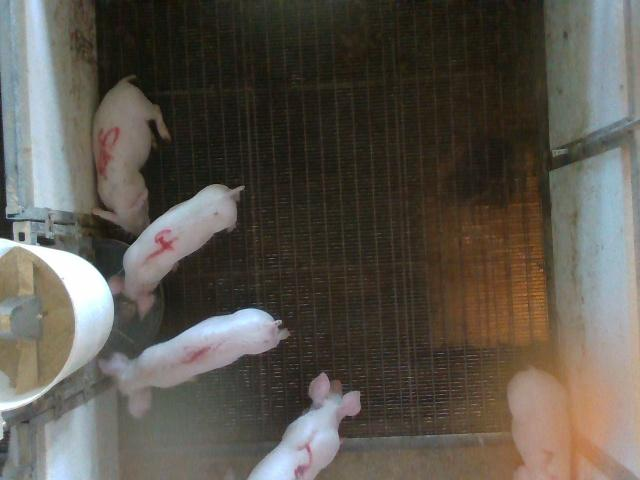pig-1: (101, 309, 289, 418)
pig-3: (249, 372, 361, 480)
pig-4: (109, 186, 243, 317)
pig-5: (92, 75, 171, 235)
